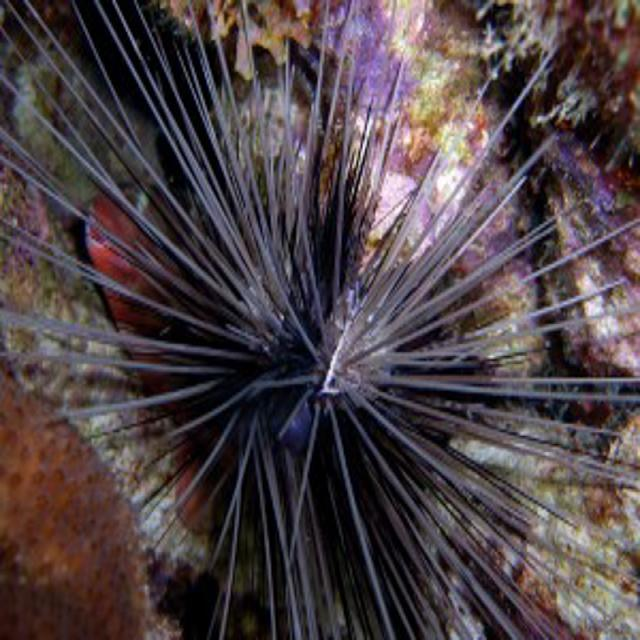Urchin: (8, 8, 618, 621)
